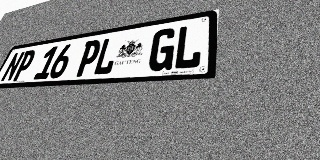1: (33, 46, 61, 80)
6: (47, 43, 75, 79)
G: (146, 27, 178, 72)
L: (172, 23, 204, 70), (92, 36, 122, 76)
N: (0, 51, 26, 82)
P: (74, 39, 103, 77), (11, 49, 38, 81)
